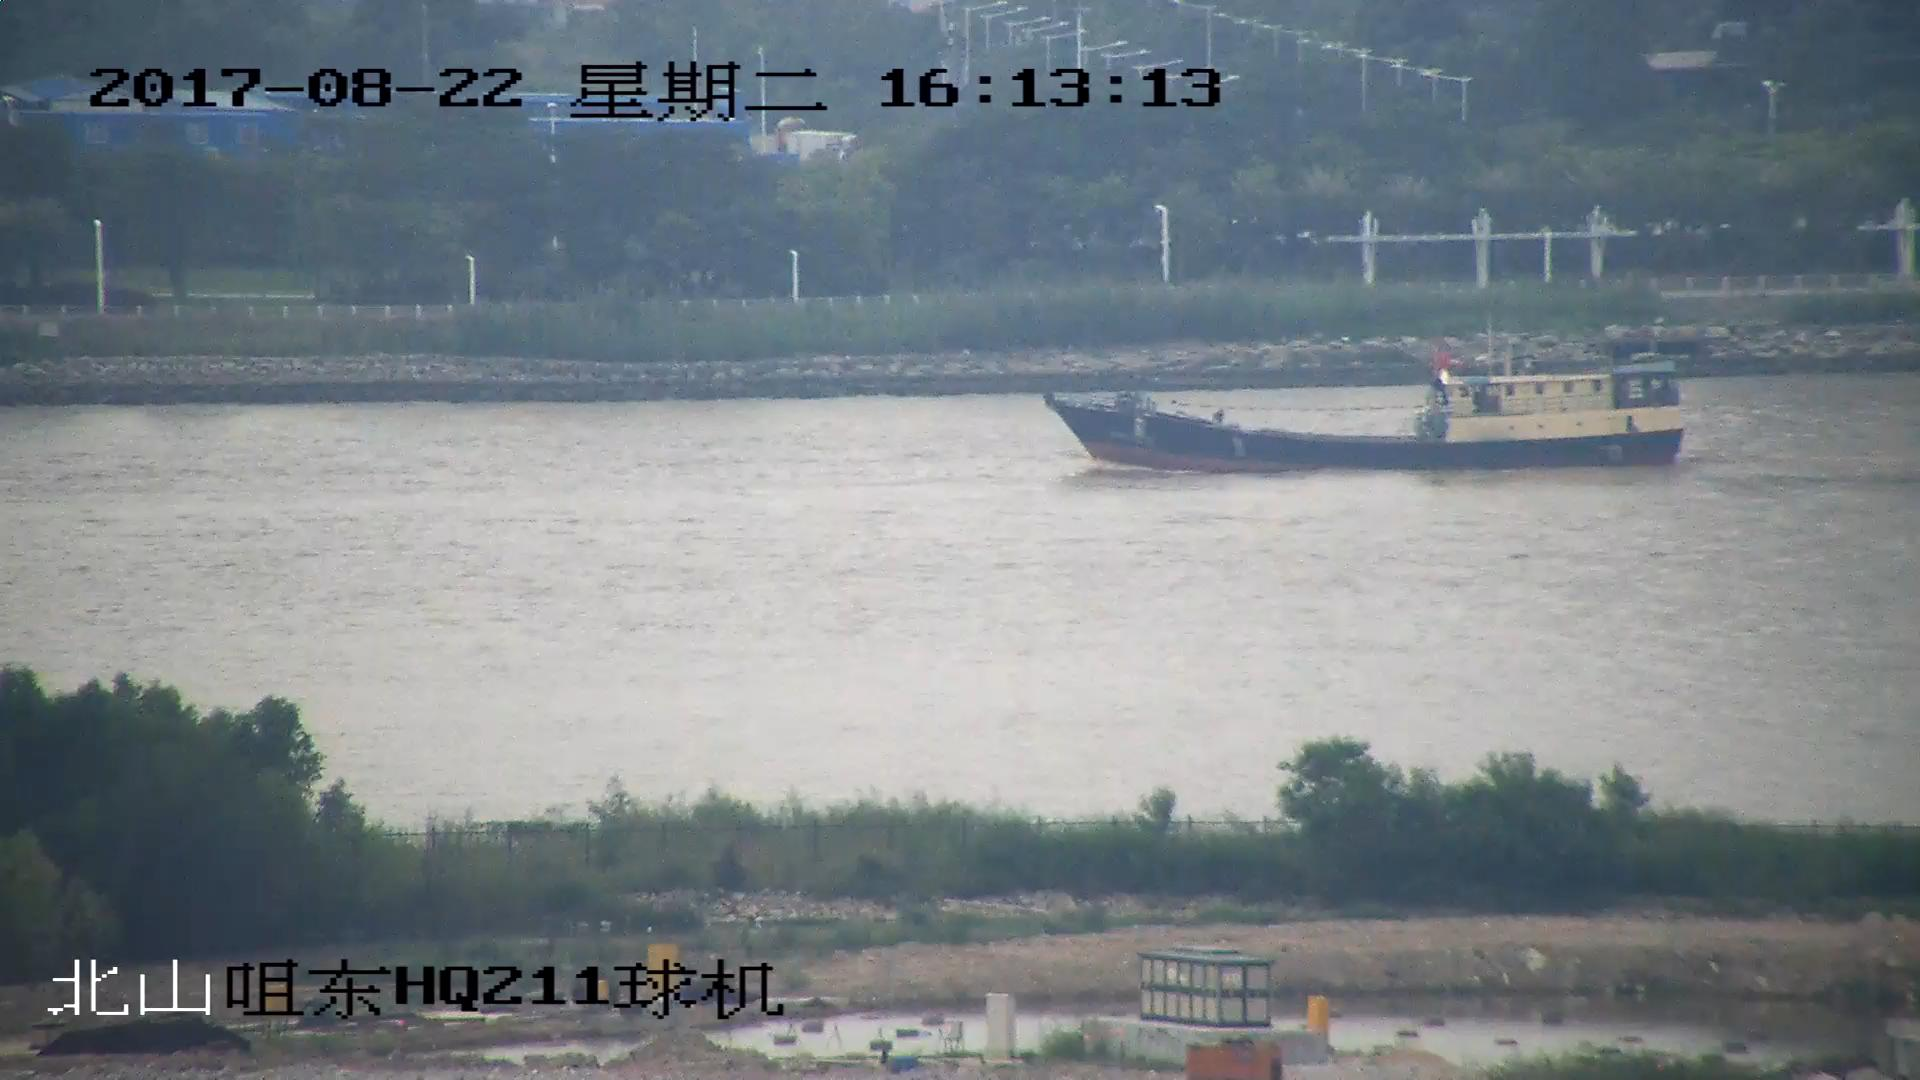fishing boat: (1047, 334, 1694, 469)
